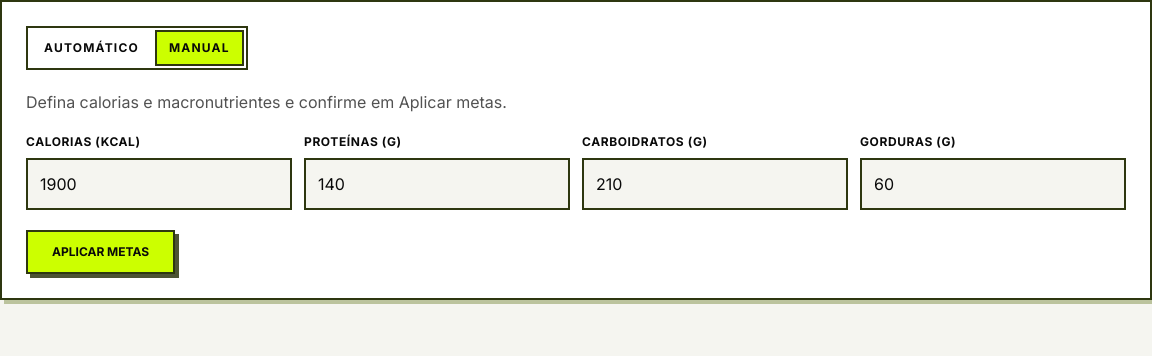
Test case: Separação das tarefas de perfil e configurações › com meta salva em modo manual › escolher AUTOMÁTICO só mostra o cálculo: nada é gravado até confirmar em "Usar metas automáticas"
The width and height of the screenshot is (1152, 356).
Expected: the button "APLICAR METAS" is shown, [26, 230, 175, 274]
Expected: the number field labelled "CALORIAS (KCAL)" holds "1900", [26, 158, 292, 210]
Click the button "AUTOMÁTICO" at (92, 48), box [30, 30, 153, 66]
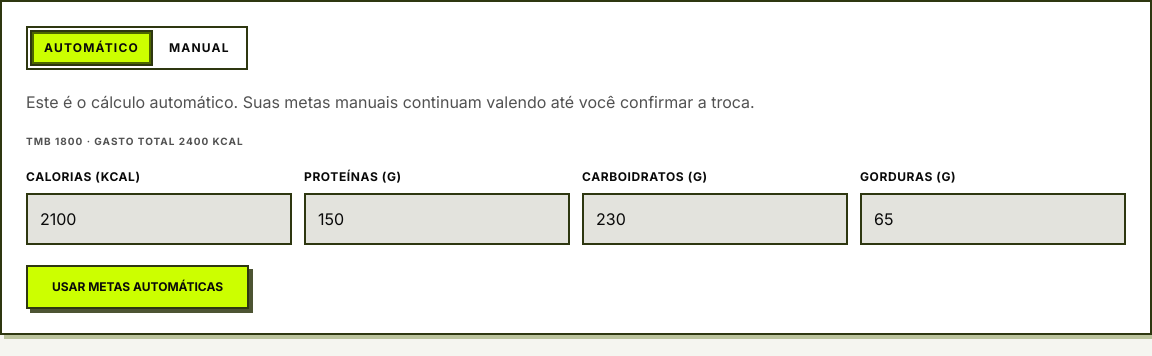
Expected: the number field labelled "CALORIAS (KCAL)" holds "2100", [26, 193, 292, 245]
Expected: the text "Aplicar metas" is gone
Expected: the button "USAR METAS AUTOMÁTICAS" is shown, [26, 265, 249, 309]
